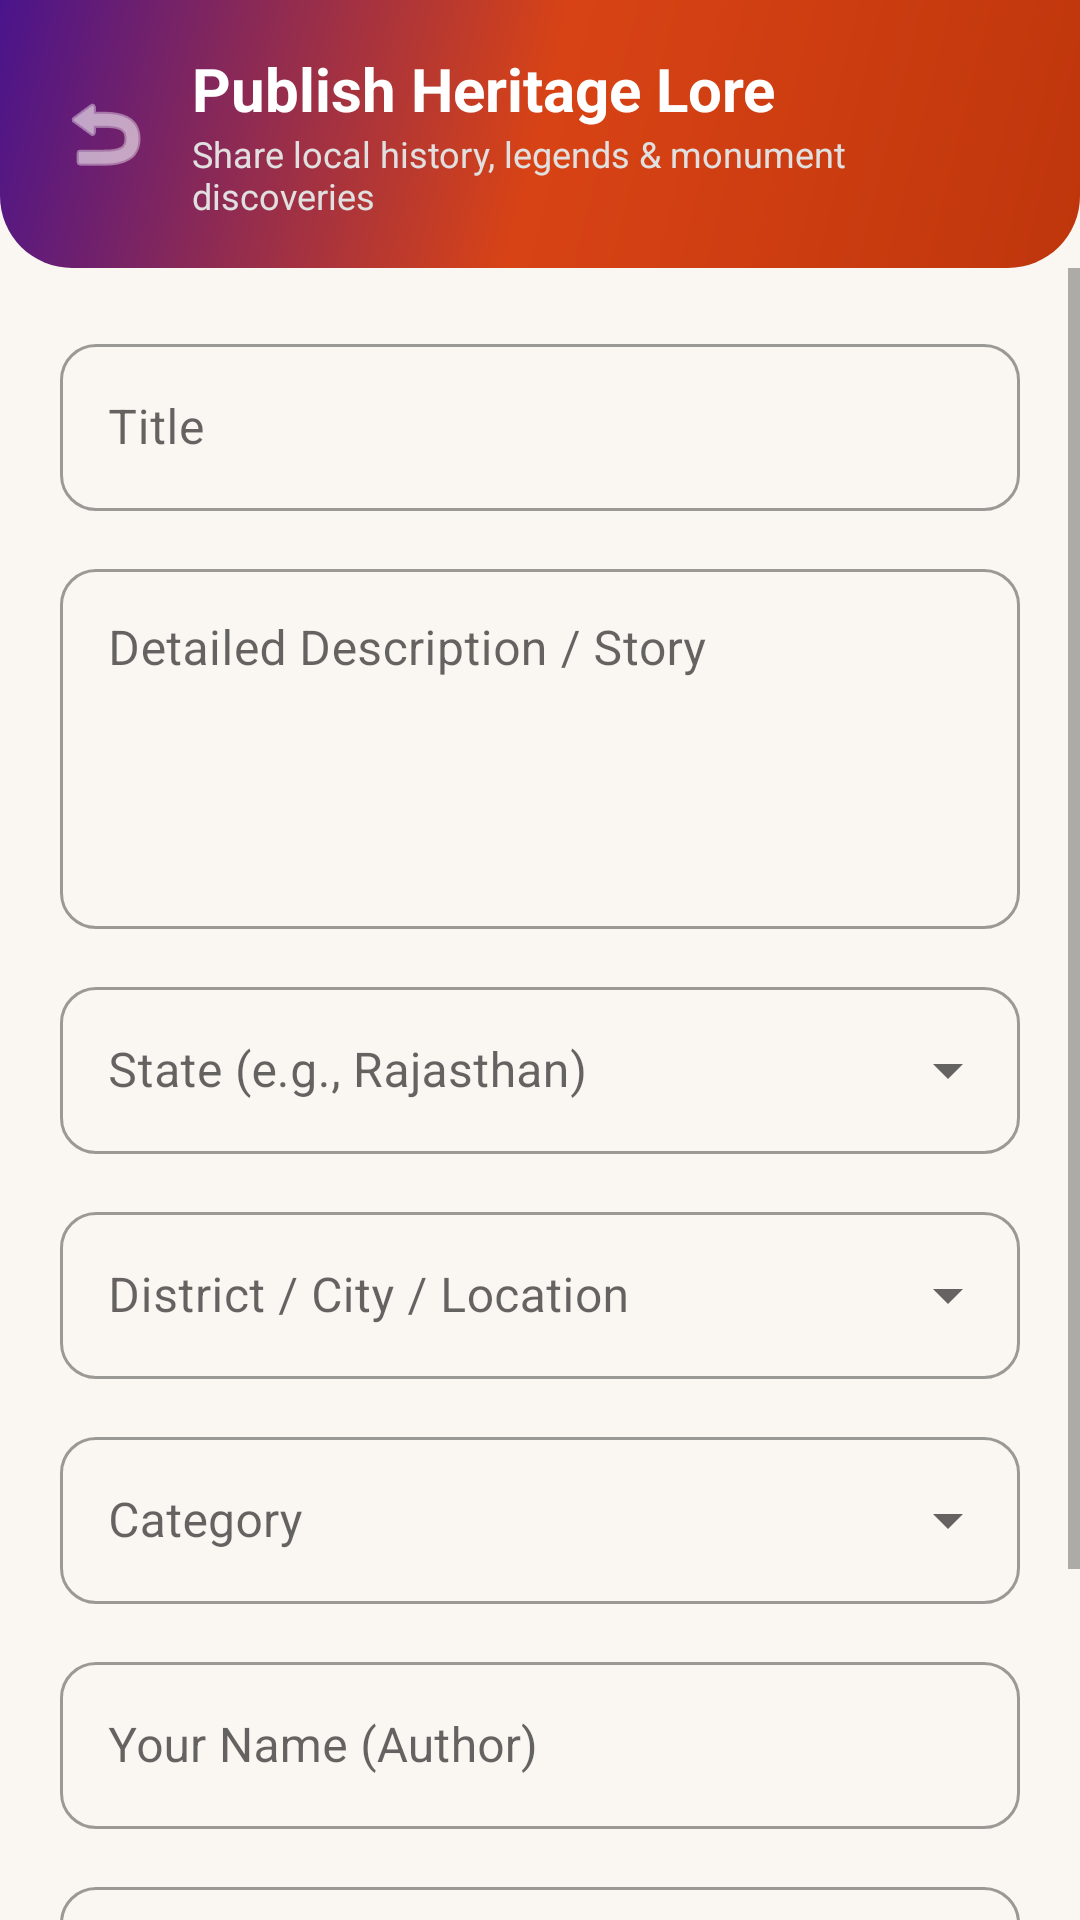

Where to tap for icons on this 1080w x 1920h app screen, as [x,y]:
Back: [98,134]
